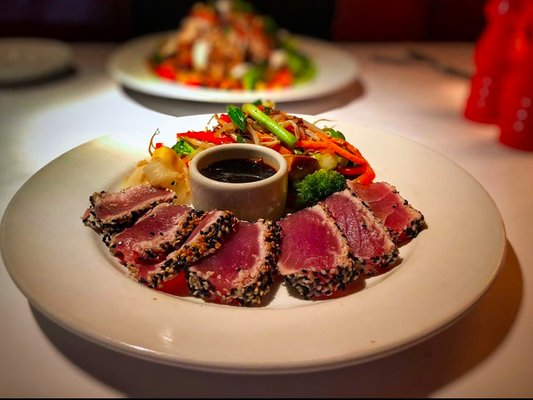curry: (291, 168, 347, 208)
pizza: (187, 143, 288, 223)
